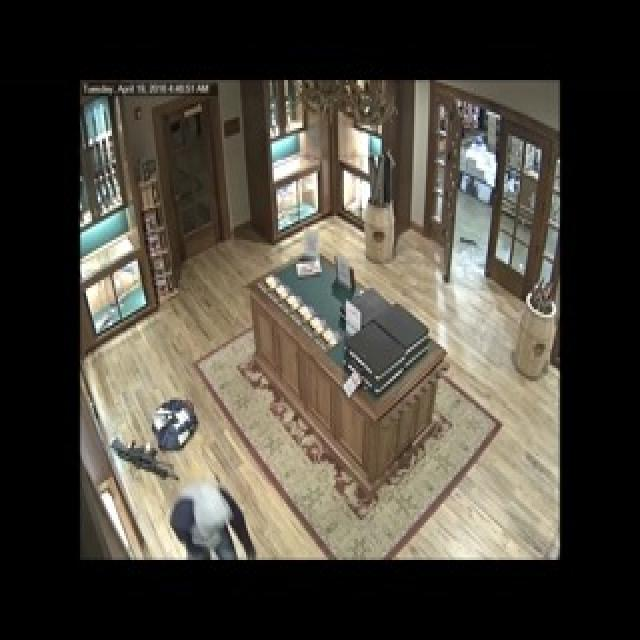thief: (162, 480, 256, 558)
